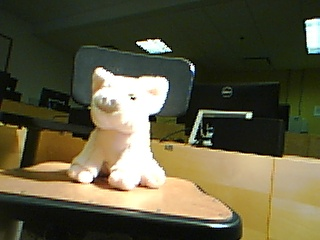piggy: (66, 65, 172, 192)
